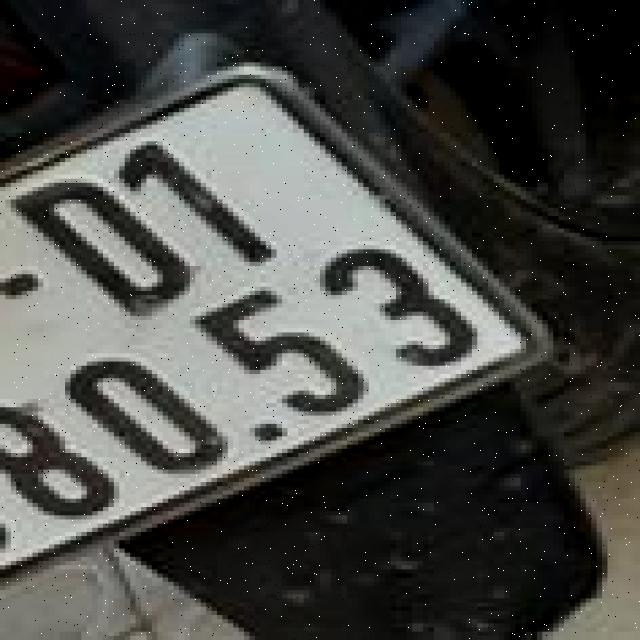0: (43, 340, 252, 500)
1: (107, 120, 291, 281)
3: (313, 235, 499, 384)
5: (171, 267, 414, 440)
8: (0, 387, 145, 544)
D: (0, 154, 225, 337)
